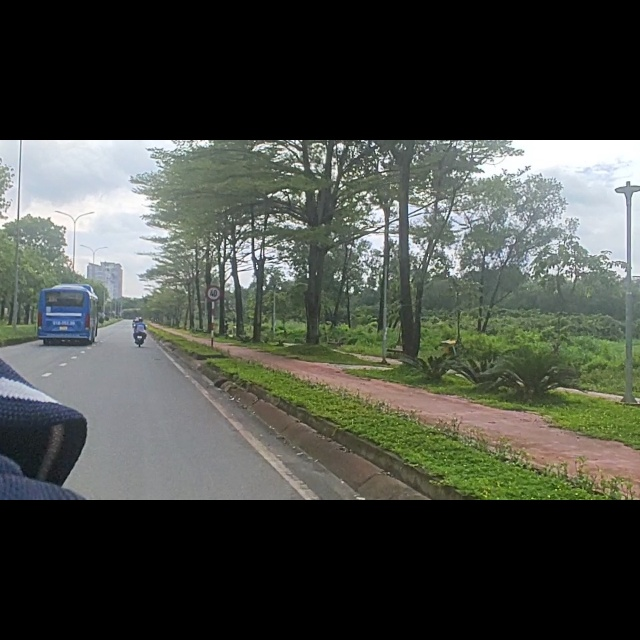Tốc độ tối đa cho phép 40km/h: (205, 286, 220, 301)
